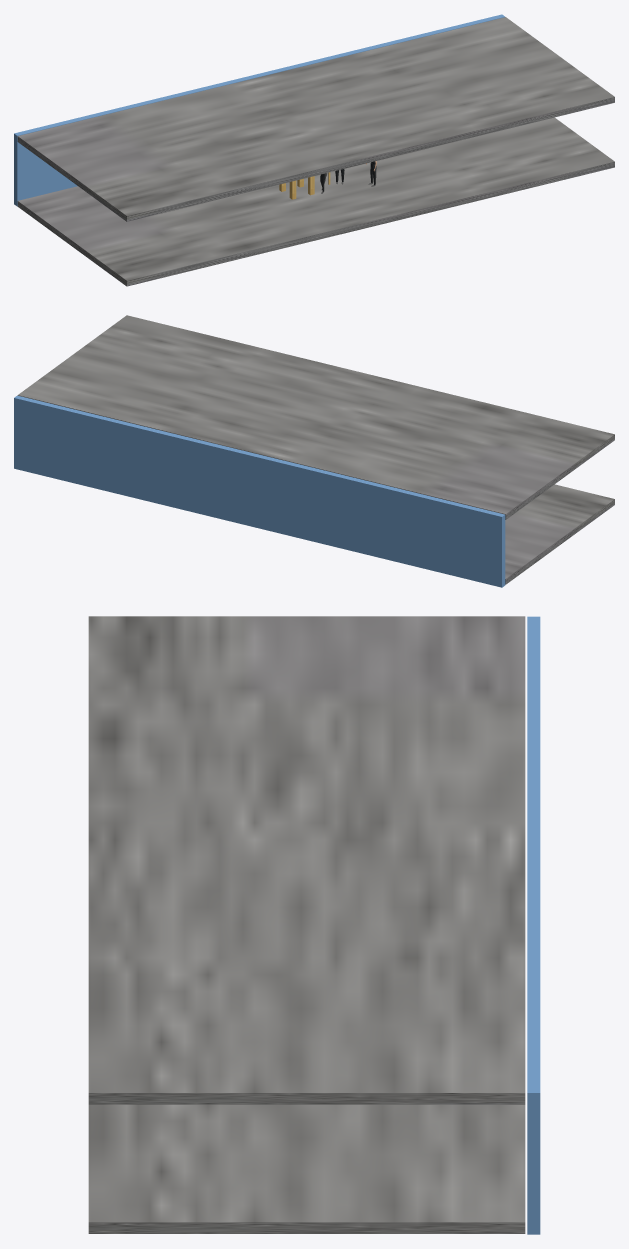
The model's file is CenturgyB_collada.dae.
The picture shows the model from 3 angles, top to bottom: view 1: azimuth 30°, elevation 25°; view 2: azimuth 150°, elevation 25°; view 3: azimuth 270°, elevation 25°; orthographic projection. The views are drawn at different scales.
Visible parts, largest first — view 1: pCube22, pCube21, pCube28; view 2: pCube22, pCube28, pCube21; view 3: pCube22, pCube21, pCube28.
Boxes of the visible parts, left/top/right/bottom form: pCube22: left=17, top=17, right=614, bottom=221; pCube21: left=17, top=117, right=614, bottom=286; pCube28: left=14, top=14, right=504, bottom=206; pCube22: left=17, top=315, right=614, bottom=519; pCube28: left=14, top=395, right=505, bottom=587; pCube21: left=505, top=484, right=614, bottom=584; pCube22: left=88, top=616, right=525, bottom=1104; pCube21: left=88, top=1104, right=525, bottom=1233; pCube28: left=527, top=616, right=540, bottom=1234.
Size of the model in its own units: 108 by 14.94 by 43.15.
